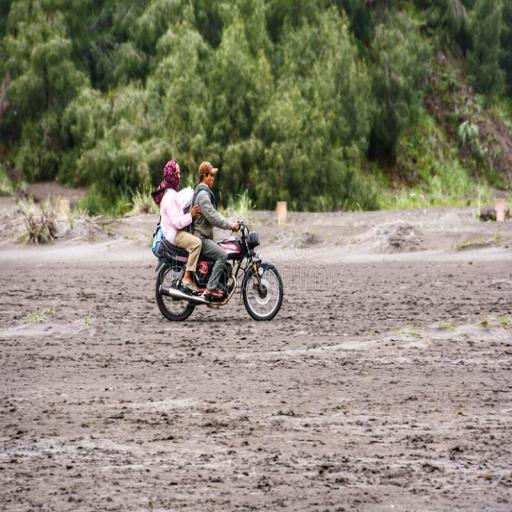no helmet: (190, 142, 276, 332)
